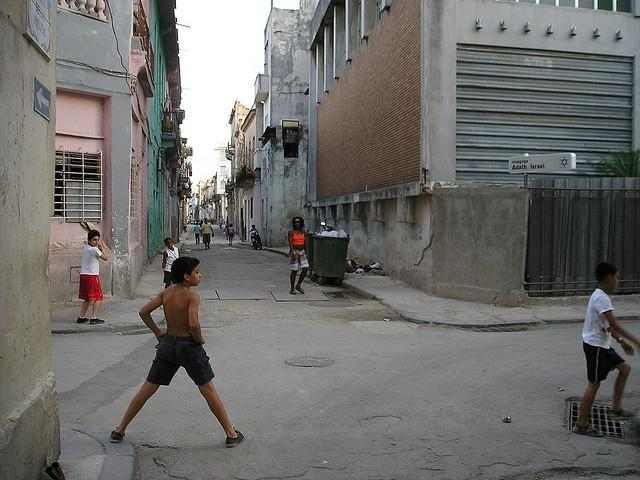motorcycle: (249, 229, 263, 250)
